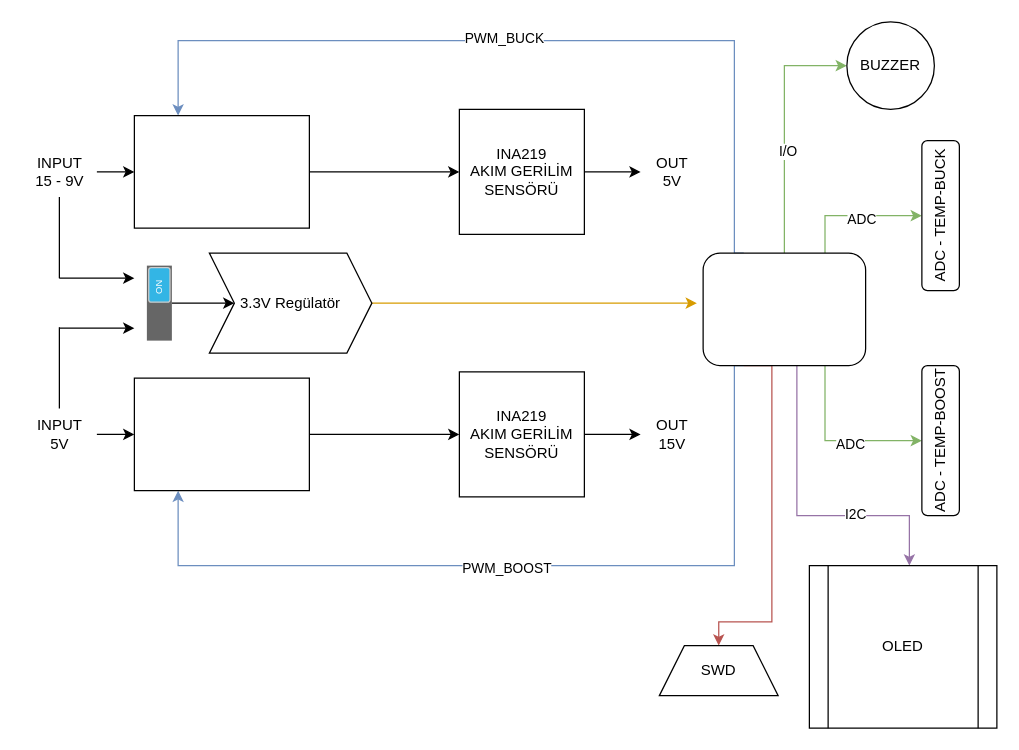
This 1019x750 diagram has some shape labels left out. The shapes that lost their labels are listed below. From the top down, each one's centre as x and y in pixels, then its label:
At point (221, 171): "BUCK CONVERTER".
At point (784, 309): "STM32F030F4P6".
At point (221, 434): "BOOST CONVERTER".
